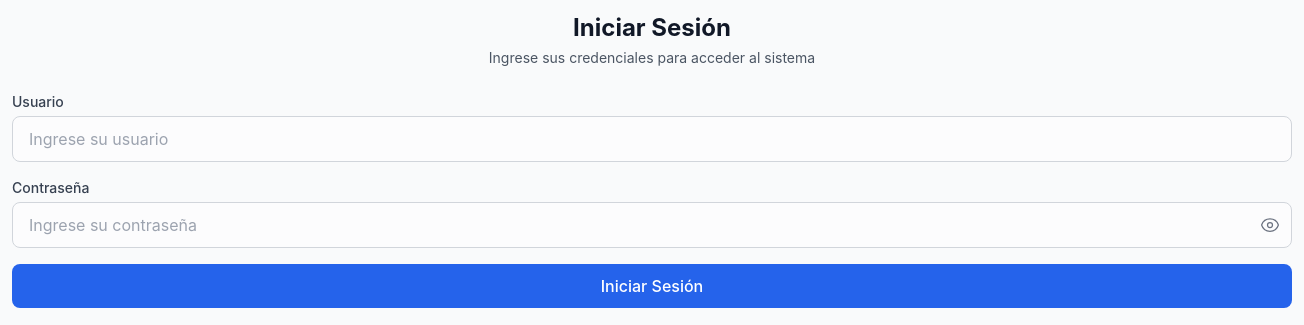
Test: LoginPage › disables form during loading state
The width and height of the screenshot is (1304, 325).
Type "doctor1" into the field labelled "Usuario" at (652, 139), box [12,116,1292,162]
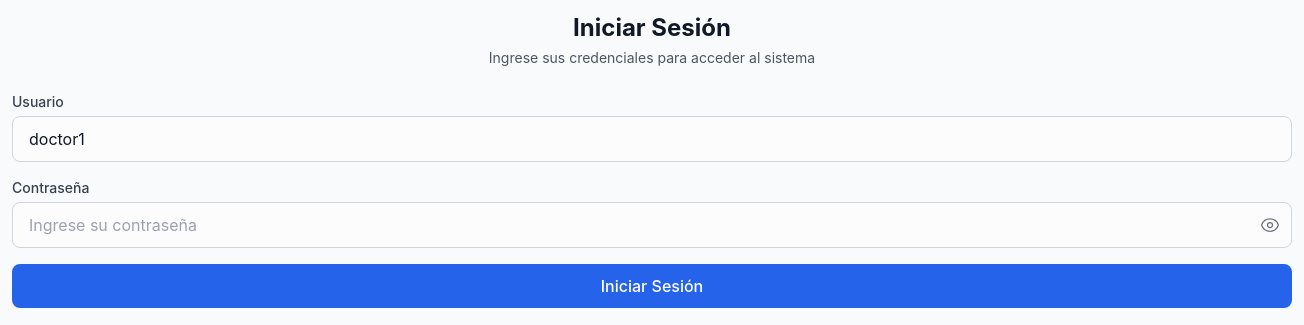
Type "Password1" into the password field labelled "Contraseña" at (652, 225), box [12,202,1292,248]
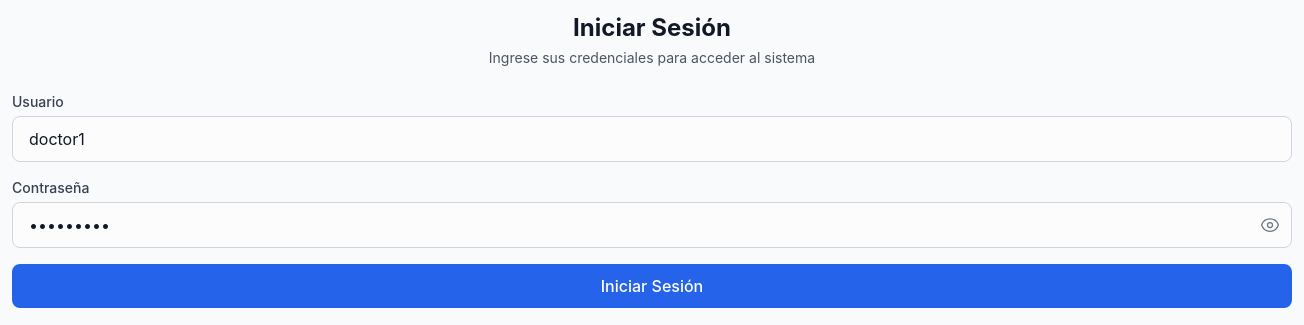
Click the button "Iniciar Sesión" at (652, 286), box [12,264,1292,308]
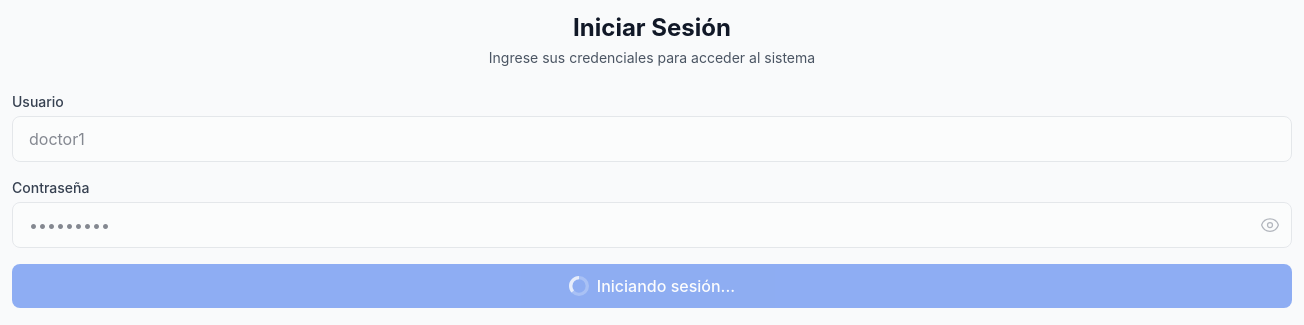
Expected: the text "Iniciando sesión..." is shown, [569,276,735,296]
Expected: the field labelled "Usuario" is disabled, [12,116,1292,162]
Expected: the password field labelled "Contraseña" is disabled, [12,202,1292,248]
